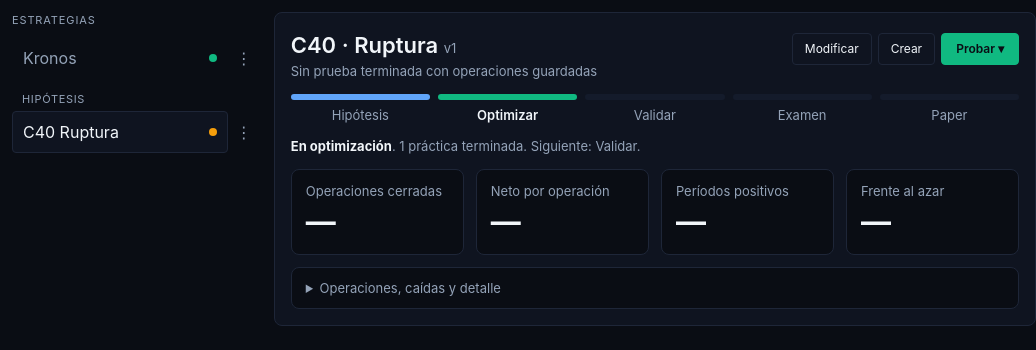
Test: StrategiesPage menu › offers detalles, modificar and borrar on a strategy of rules
Expected: the navigation bar named "Lista de estrategias" is shown, top-left (12, 12), bottom-right (258, 153)
Click the button named "Opciones de C40 Ruptura".
click(244, 132)  # box top-left (230, 111), bottom-right (258, 153)
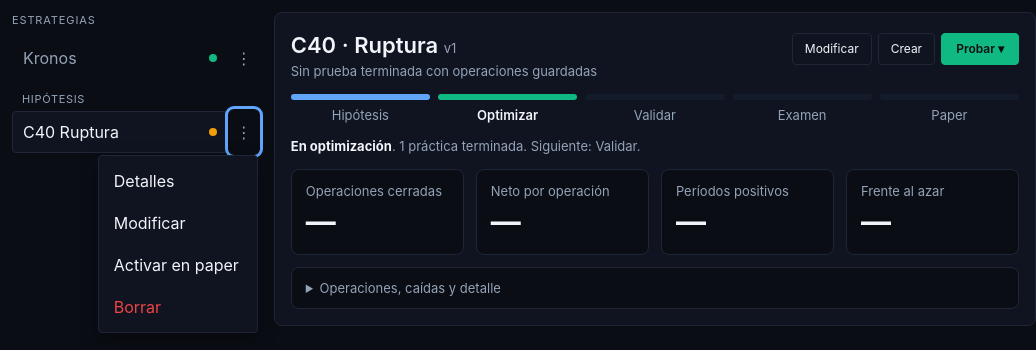
Now the menu item "Detalles" is shown, box top-left (103, 160), bottom-right (253, 202)
Now the menu item "Modificar" is shown, box top-left (103, 202), bottom-right (253, 244)
Now the menu item "Borrar" is shown, box top-left (103, 286), bottom-right (253, 328)
